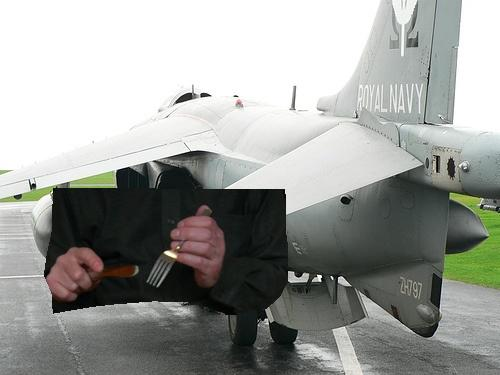tampered: (45, 189, 288, 315)
